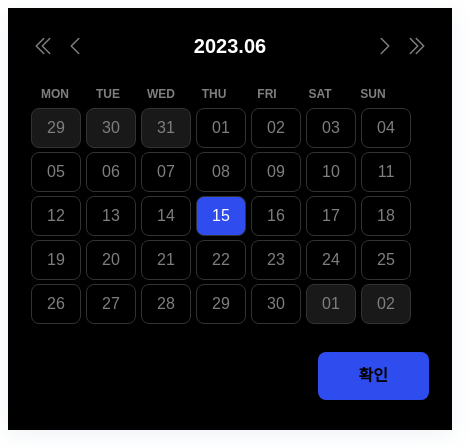
Scenario: Calendar › navigates to next month
This screenshot has width=469, height=448.
Step 1. Click the icon with test id "single-right-arrow" → [385, 46], box [373, 34, 397, 58]
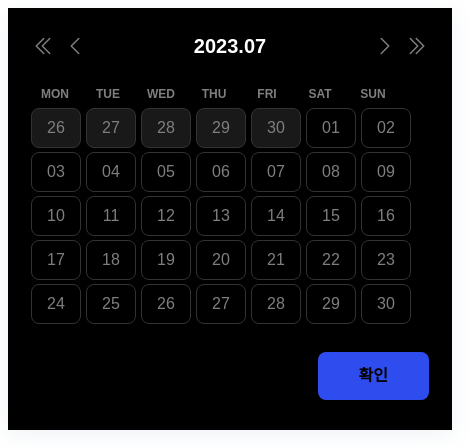
Result: the heading "2023.07" is shown at [194, 32, 266, 60]
